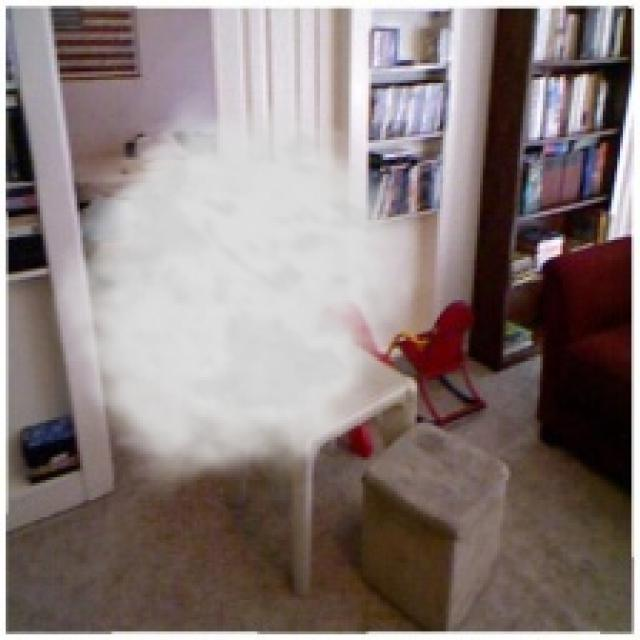smoke: (43, 89, 434, 500)
